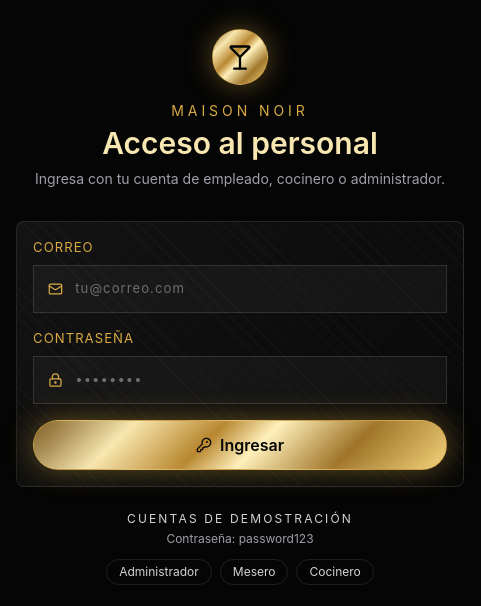
Test: LoginPage › los botones de demo rellenan el formulario sin enviarlo
Click the button "Mesero" at (254, 572), box [220,559,288,585]
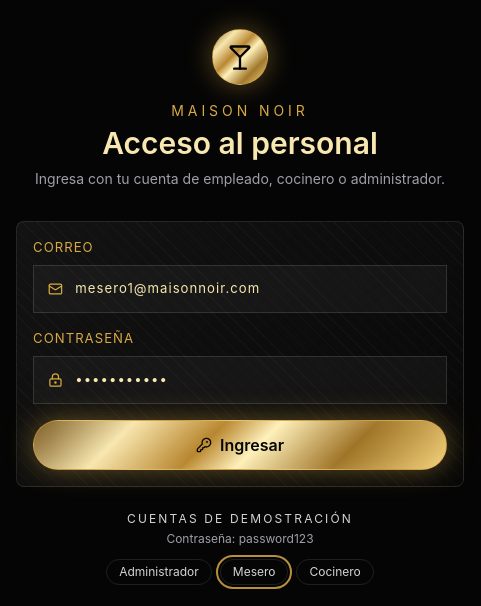
Check: the field labelled "Correo" holds "mesero1@maisonnoir.com", box [75,279,432,299]
Check: the password field labelled "Contraseña" holds "password123", box [75,370,432,390]
